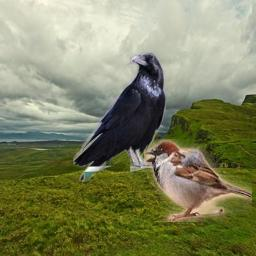Crow: (73, 52, 166, 182)
Sparrow: (144, 139, 252, 222)
